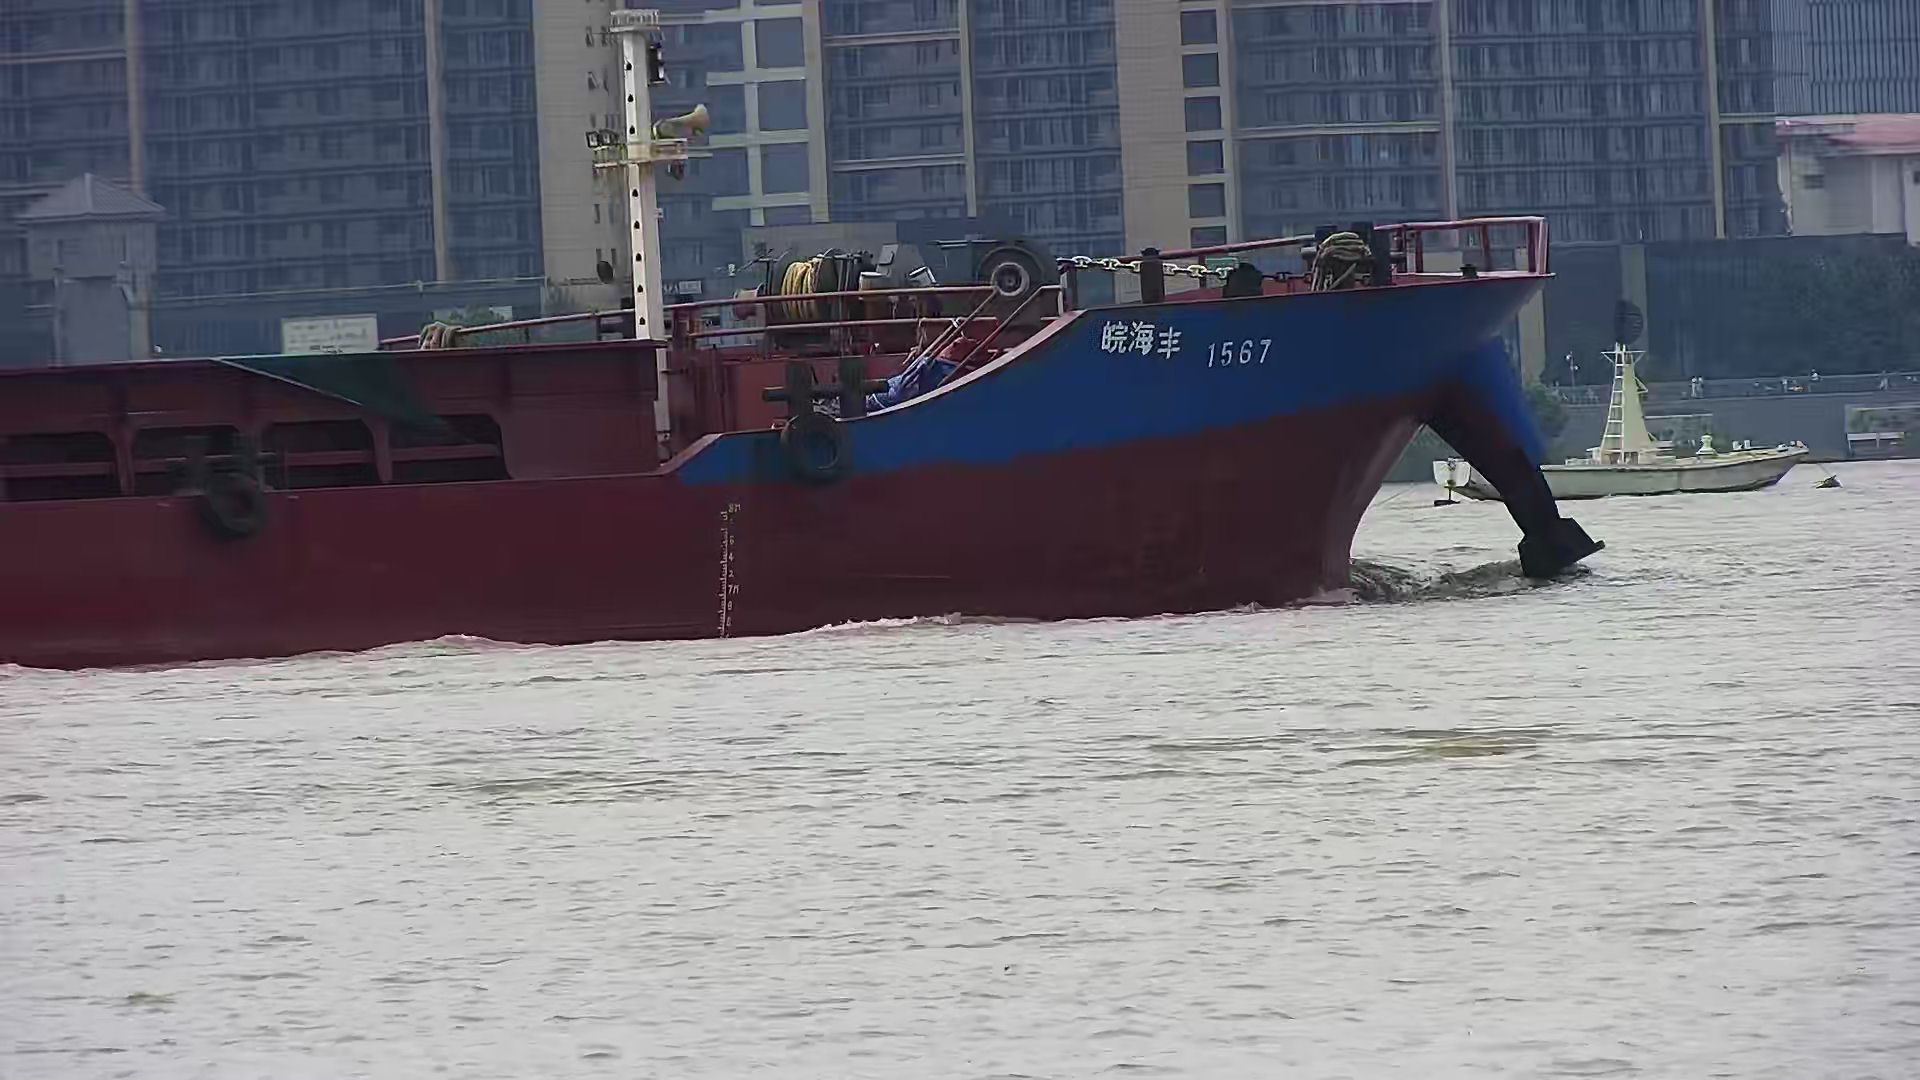boat: (1429, 331, 1809, 496)
ship: (1, 11, 1611, 669)
